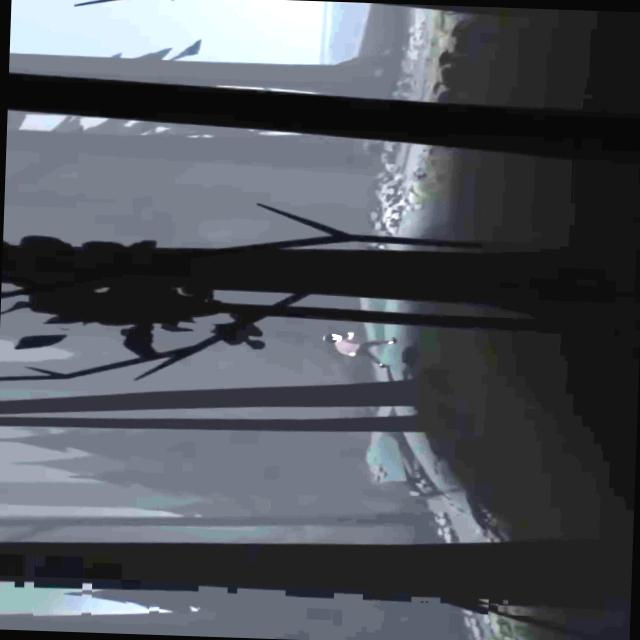boy: (321, 331, 394, 363)
